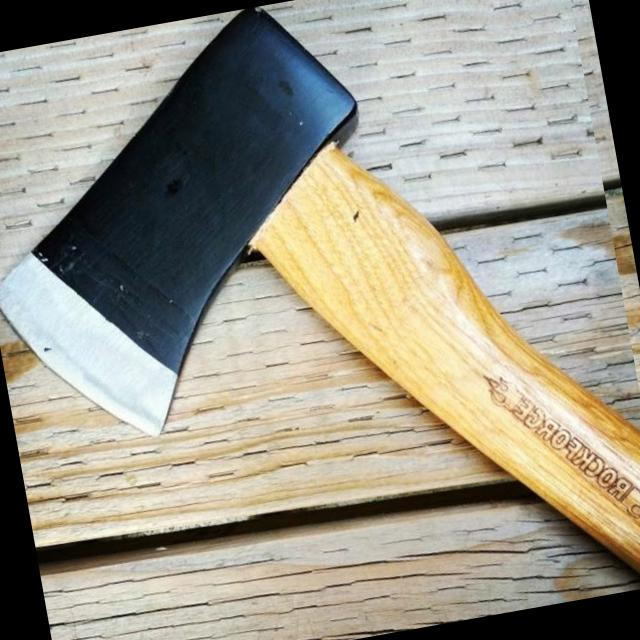Axe: (0, 6, 640, 579)
